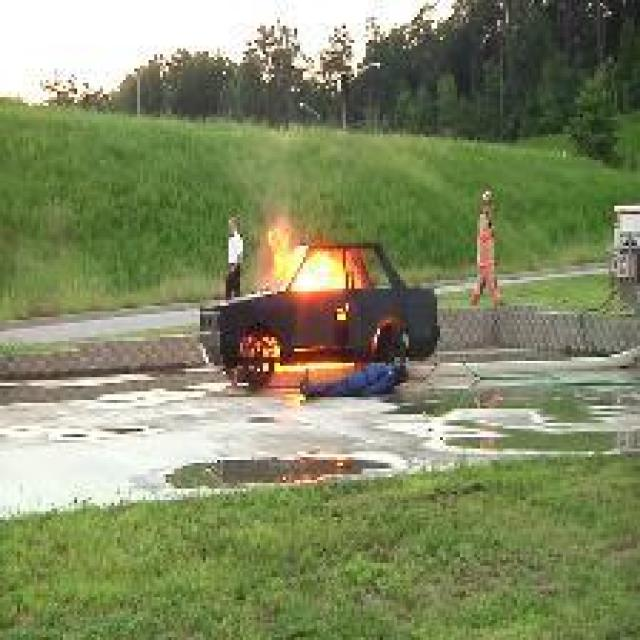fire: (257, 216, 367, 288), (240, 330, 352, 370), (330, 301, 352, 319)
